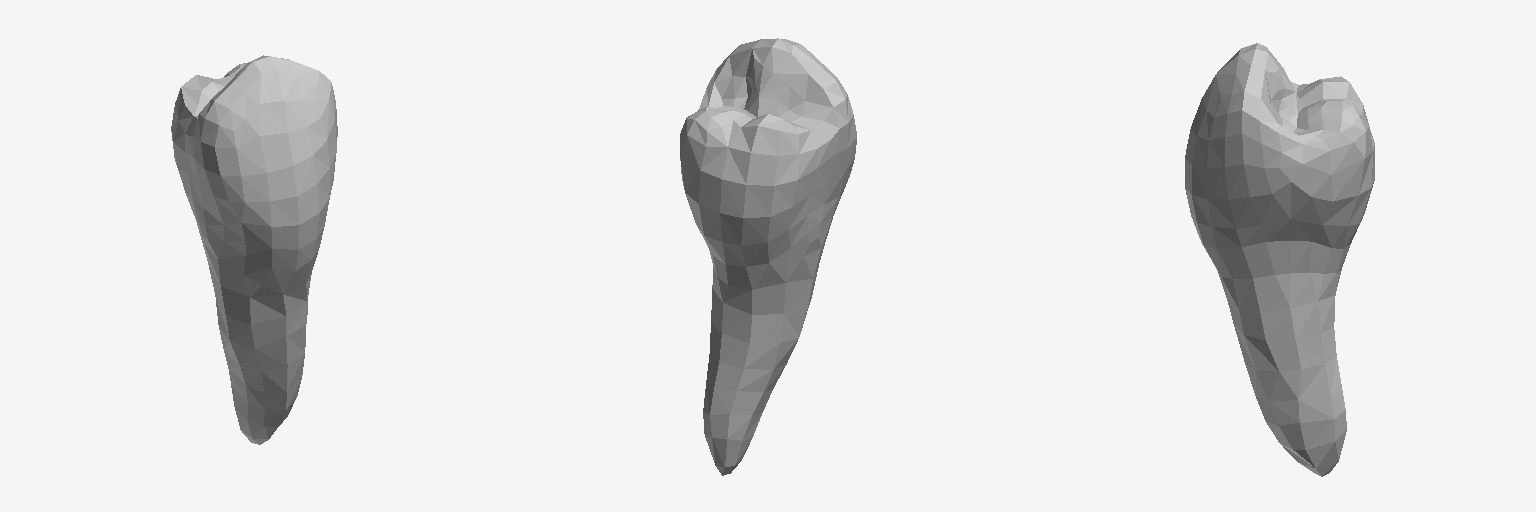
File: Human_Teeth_Bottom_5.obj
3 renders of one model, left to right at view 1: azimuth 30°, elevation 25°; view 2: azimuth 150°, elevation 25°; view 3: azimuth 270°, elevation 25°, orthographic.
Visible parts, largest first — view 1: Human_Teeth_Bottom_5; view 2: Human_Teeth_Bottom_5; view 3: Human_Teeth_Bottom_5.
Boxes of the visible parts, x1,y1,x2,y2 form: Human_Teeth_Bottom_5: [171, 55, 337, 444]; Human_Teeth_Bottom_5: [680, 38, 856, 475]; Human_Teeth_Bottom_5: [1185, 43, 1374, 476].
Size of the model in its own units: 1.49 by 4.37 by 1.81.